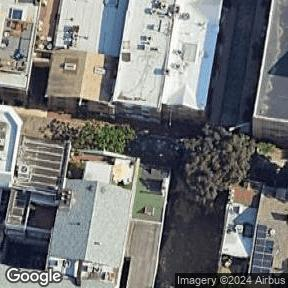vegetation: (39, 86, 256, 212)
